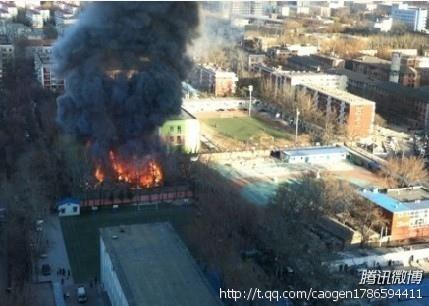fire: (87, 153, 178, 193)
smoke: (44, 3, 185, 149)
